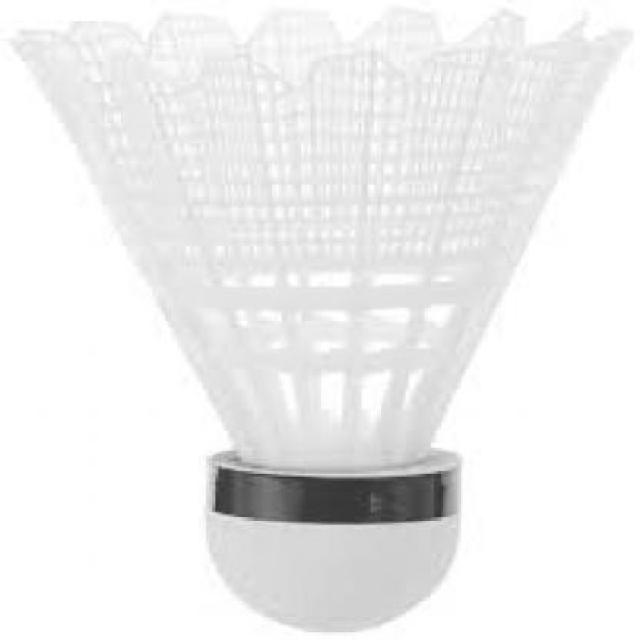Shuttlecock: (11, 6, 632, 634)
